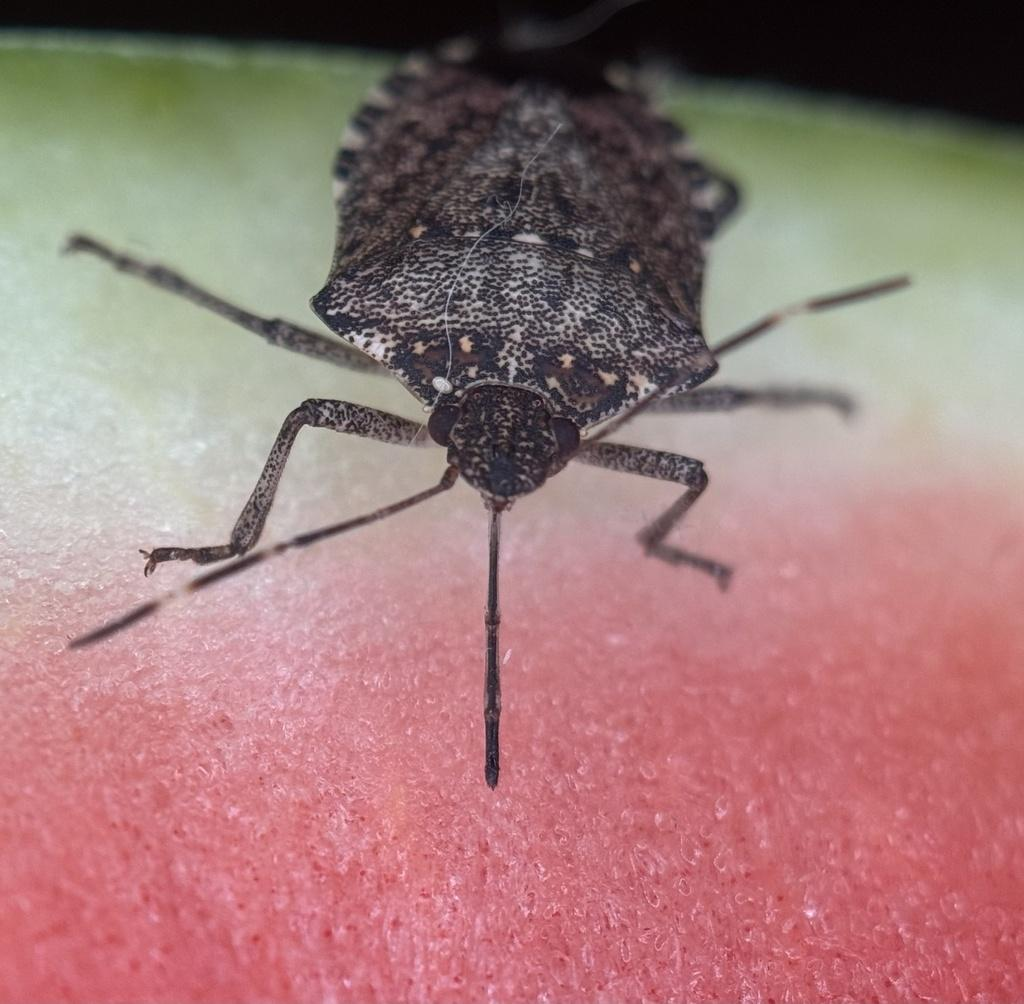stink_bugs: (0, 0, 1024, 870)
